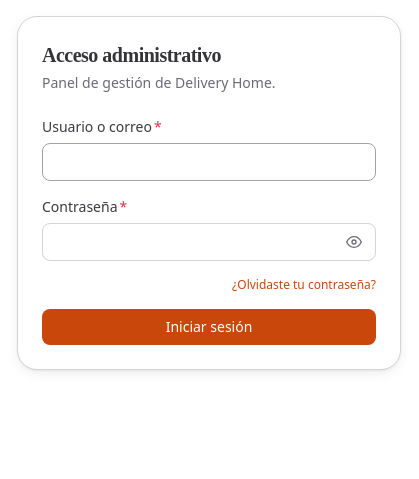
Test: AdminLoginPage › muestra el mensaje de error del backend cuando las credenciales son inválidas
Type "staff01" into the field labelled "Usuario o correo*" at (209, 162), box [42,143,376,181]
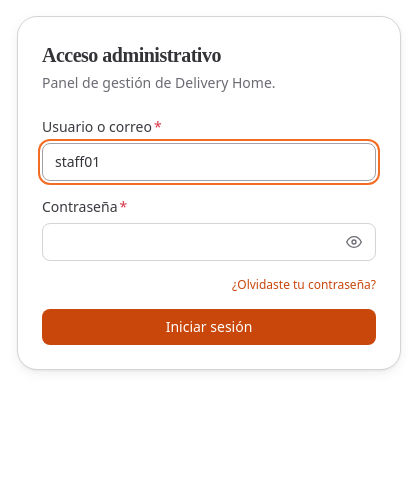
Type "incorrecta" into the password field labelled "Contraseña*" at (209, 242), box [42,223,376,261]
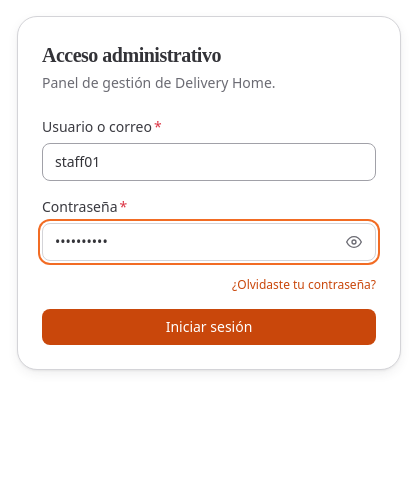
Click the button "Iniciar sesión" at (209, 327), box [42,309,376,345]
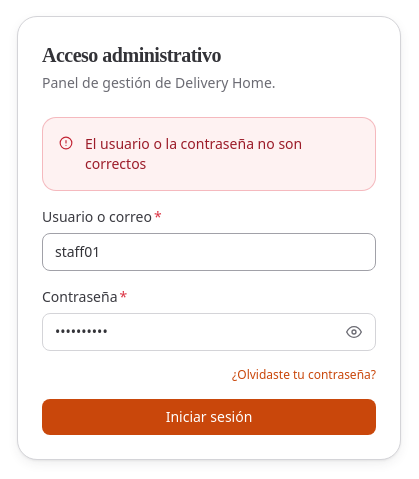
Expected: the text "El usuario o la contraseña no son correctos" is shown, [85,134,302,173]
